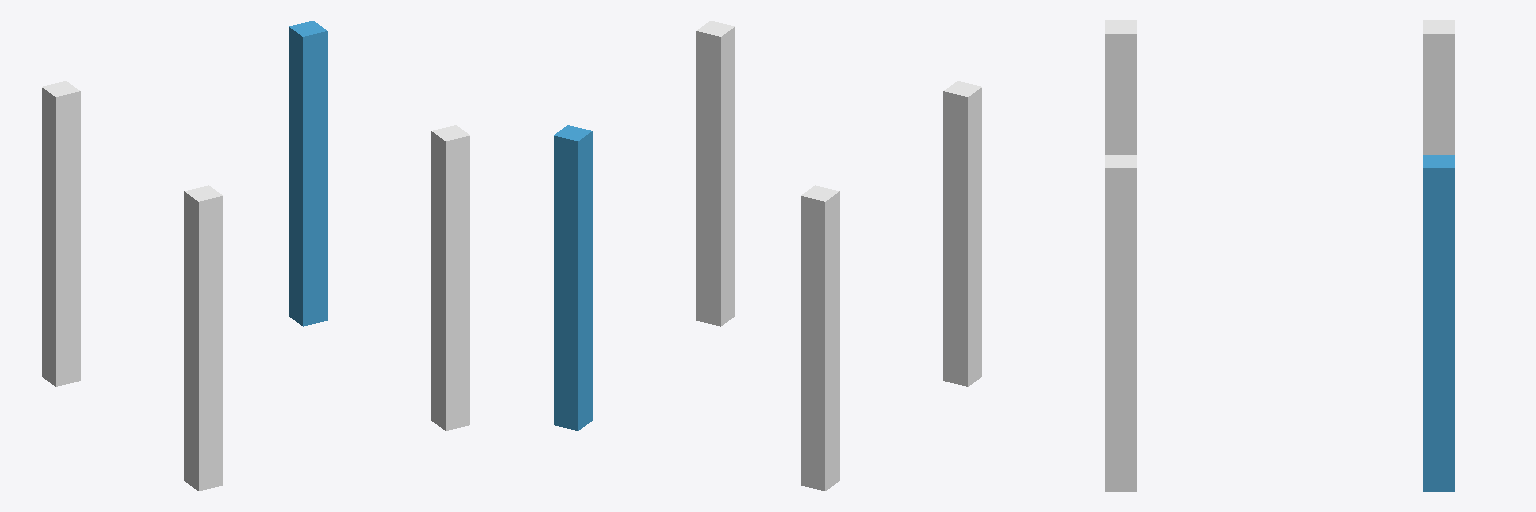
robot.urdf — urdf_table:
<?xml version="1.0" ?>
<robot name="urdf_table">
 <link name="world"/>
  <joint name="fixed" type="fixed">
    <parent link="world"/>
    <child link="baseLink"/>
    <origin xyz="2 0 0"/>
  </joint>

  <link name="baseLink">
    <inertial>
      <origin rpy="0 0 0" xyz="0 0 0.6"/>
       <mass value="0"/>
       <inertia ixx="0.1" ixy="0" ixz="0" iyy="0.1" iyz="0" izz="0.1"/>
    </inertial>
    <visual>
      <origin rpy="0 0 0" xyz="0 0 0.6"/>
      <geometry>
	    <mesh filename="table.obj" scale="0.6 0.6 0.08"/>
      </geometry>
	   <material name="framemat0">
      <color
                    rgba="1 1 1 1" />
      </material>
    </visual>
    <visual>
      <origin rpy="0 0 0" xyz="-0.25 -0.25 0.28"/>
      <geometry>
        <box size="0.05 0.05 0.56"/>
      </geometry>
	  <material name="framemat0"/>	 
    </visual>
    <visual>
      <origin rpy="0 0 0" xyz="-0.25 0.25 0.28"/>
      <geometry>
        <box size="0.05 0.05 0.56"/>
      </geometry>
	  <material name="framemat0"/>
	  </visual>
    <visual>
      <origin rpy="0 0 0" xyz="0.25 -0.25 0.28"/>
      <geometry>
        <box size="0.05 0.05 0.56"/>
      </geometry>
	  <material name="framemat0"/>
	  </visual>
    <visual>
      <origin rpy="0 0 0" xyz="0.25 0.25 0.28"/>
      <geometry>
        <box size="0.05 0.05 0.56"/>
      </geometry>
    </visual>
    <collision>
      <origin rpy="0 0 0" xyz="0 0 0.6"/>
      <geometry>
      <box size="0.6 0.6 0.08"/>
      </geometry>
    </collision>    
  </link>
</robot>

--- Facts derived from the render (not from the file) ---
Views: 3 orthographic renders of the robot side by side, from view 1: azimuth 30°, elevation 25°; view 2: azimuth 150°, elevation 25°; view 3: azimuth 270°, elevation 25°.
Model urdf_table with 2 links and 1 joints (1 fixed), rooted at world, posed every joint at zero.
Visible links, largest first — view 1: baseLink; view 2: baseLink; view 3: baseLink.
Link boxes in pixels (box(x1,y1,x2,y2)): baseLink: box(42, 21, 469, 490); baseLink: box(554, 21, 981, 490); baseLink: box(1105, 20, 1454, 491).
Bounding box of the posed robot: 0.55 × 0.55 × 0.56 m (x, y, z).
0 mesh visuals loaded from 1 distinct referenced files (none loaded); not drawn: 1 (reference not matched to a file when rendering).